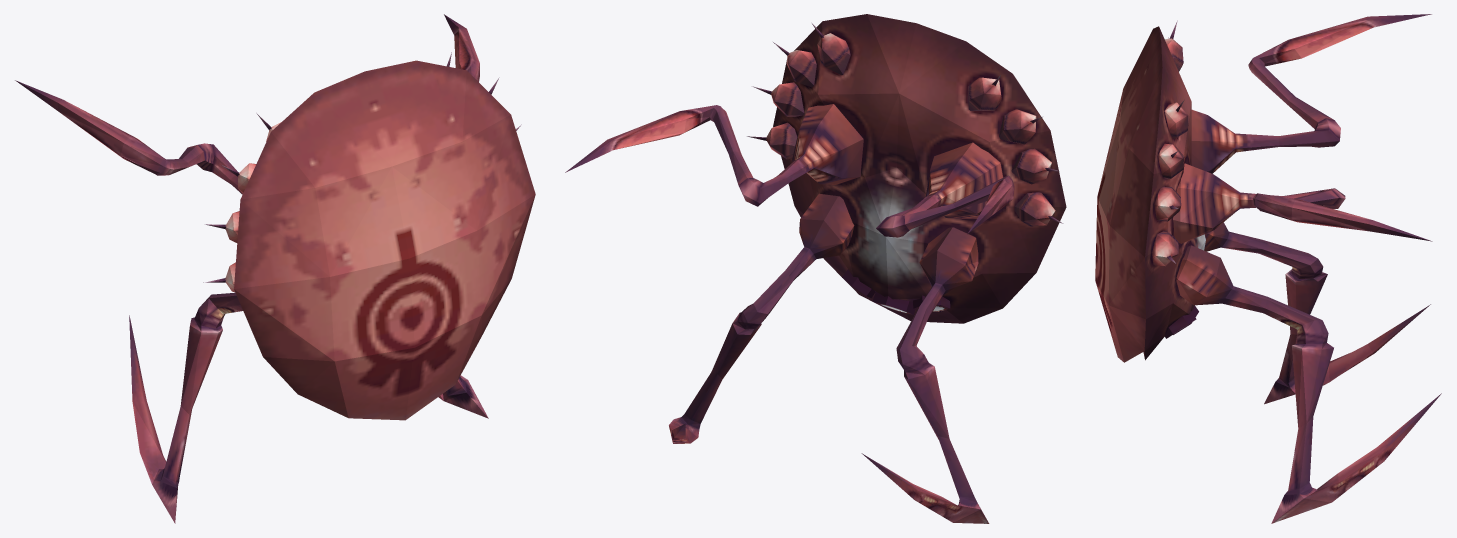
The model's file is Krab.obj.
3 renders of one model, left to right at view 1: azimuth 30°, elevation 25°; view 2: azimuth 150°, elevation 25°; view 3: azimuth 270°, elevation 25°, orthographic. The views are drawn at different scales.
Parts seen in each view (by area): view 1: Mesh_0211, Mesh_0215; view 2: Mesh_0211, Mesh_0215; view 3: Mesh_0215, Mesh_0211.
Boxes of the visible parts, x1,y1,x2,y2 form: Mesh_0211: (203, 52, 535, 420); Mesh_0215: (15, 14, 488, 523); Mesh_0211: (747, 14, 1066, 323); Mesh_0215: (565, 104, 1014, 523); Mesh_0215: (1173, 14, 1441, 523); Mesh_0211: (1095, 20, 1205, 362).
Bounding box in the file's own units: 134 × 137 × 102.
